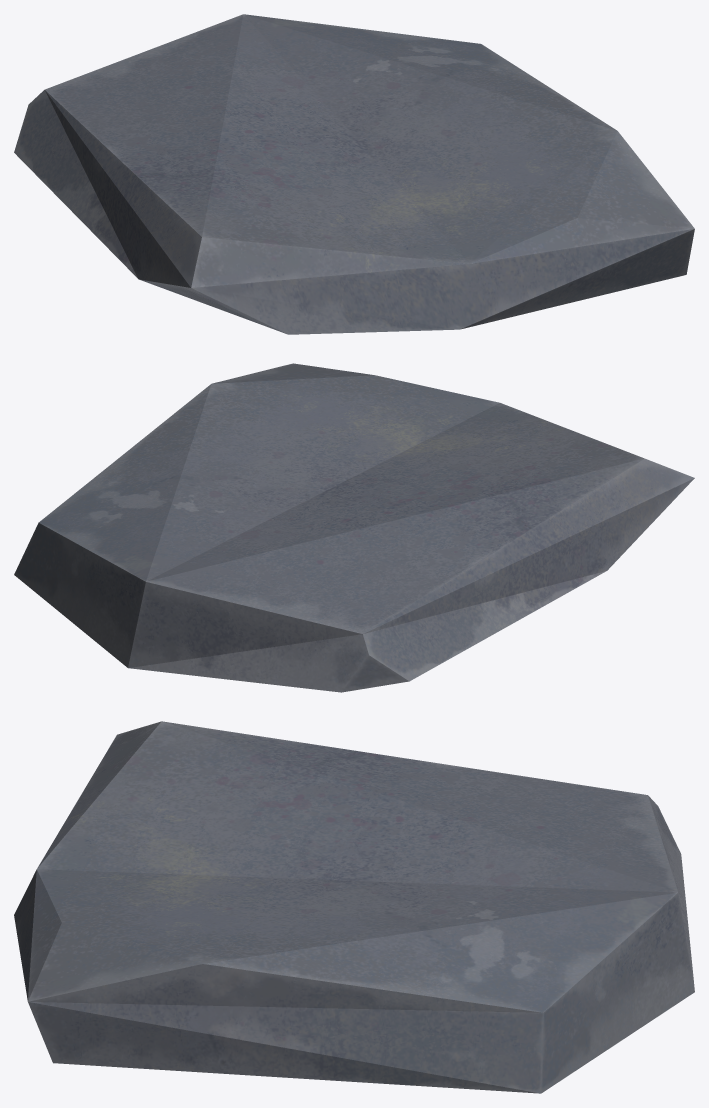
File: rock3.glb
The picture shows the model from 3 angles, top to bottom: view 1: azimuth 30°, elevation 25°; view 2: azimuth 150°, elevation 25°; view 3: azimuth 270°, elevation 25°; orthographic projection. The views are drawn at different scales.
Visible parts, largest first — view 1: Object_69; view 2: Object_69; view 3: Object_69.
Part boxes in pixels (bbox=[...]): Object_69: bbox=[14, 14, 694, 334]; Object_69: bbox=[14, 363, 694, 692]; Object_69: bbox=[14, 721, 694, 1093].
Size of the model in its own units: 1.72 by 0.3716 by 1.83.
1 material, 1 textured.
